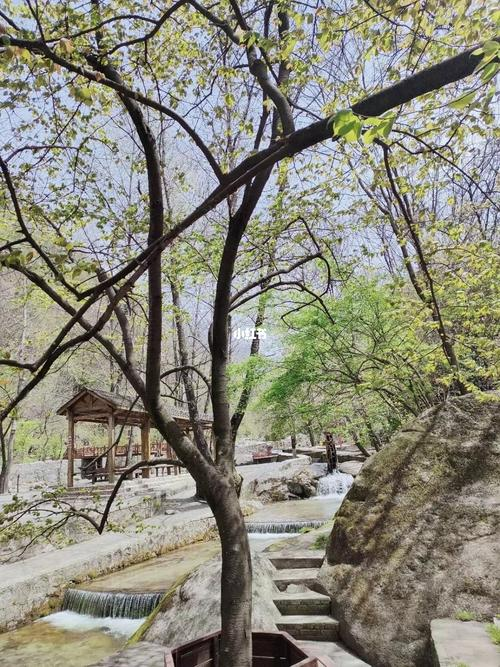mountain: (328, 396, 490, 632)
